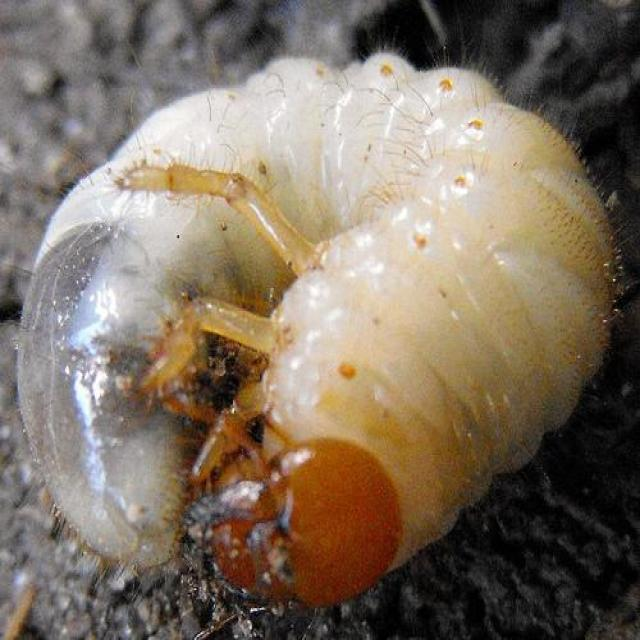Grub-Adult-: (14, 50, 622, 614)
